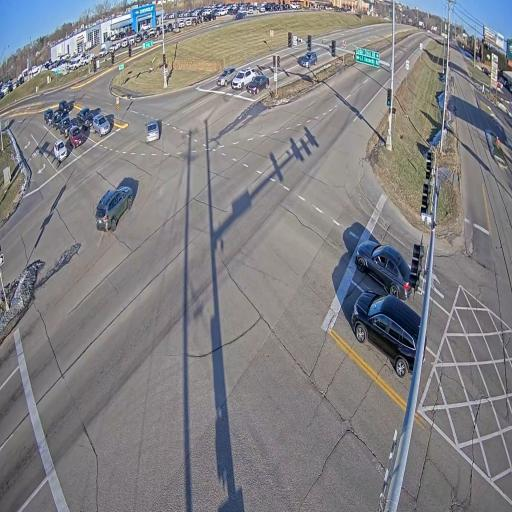pickup: (77, 107, 94, 129), (59, 115, 72, 137)
sedan: (355, 240, 411, 300), (246, 75, 270, 94), (146, 120, 159, 143)
suv: (351, 290, 421, 378), (95, 184, 133, 231), (232, 68, 256, 89), (93, 114, 111, 137), (69, 125, 84, 148), (217, 67, 235, 86), (300, 51, 317, 68), (54, 140, 67, 162), (51, 110, 62, 129), (58, 100, 71, 115), (44, 108, 53, 124)
